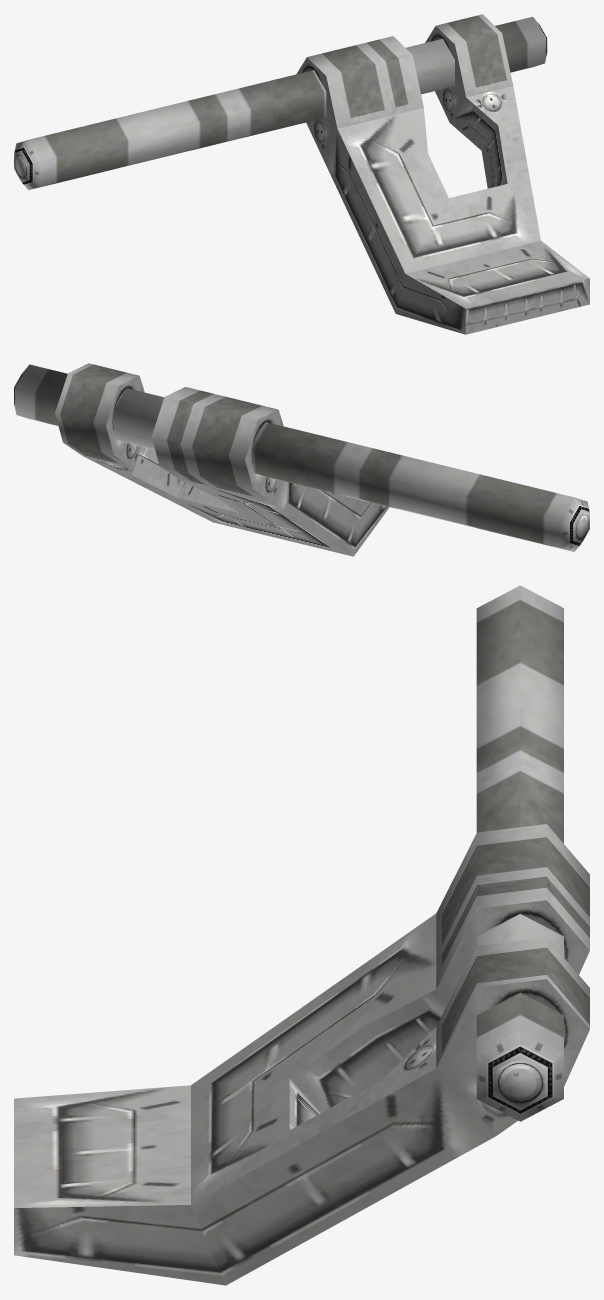
The model's file is PWArmL2.obj.
The picture shows the model from 3 angles, top to bottom: view 1: azimuth 30°, elevation 25°; view 2: azimuth 150°, elevation 25°; view 3: azimuth 270°, elevation 25°; orthographic projection. The views are drawn at different scales.
Parts seen in each view (by area): view 1: L_20; view 2: L_20; view 3: L_20.
Boxes of the visible parts, x1,y1,x2,y2 form: L_20: (14, 14, 589, 334); L_20: (14, 363, 589, 556); L_20: (14, 585, 589, 1285).
Bounding box in the file's own units: 48.34 × 17.05 × 25.68.
1 material, 1 textured.
